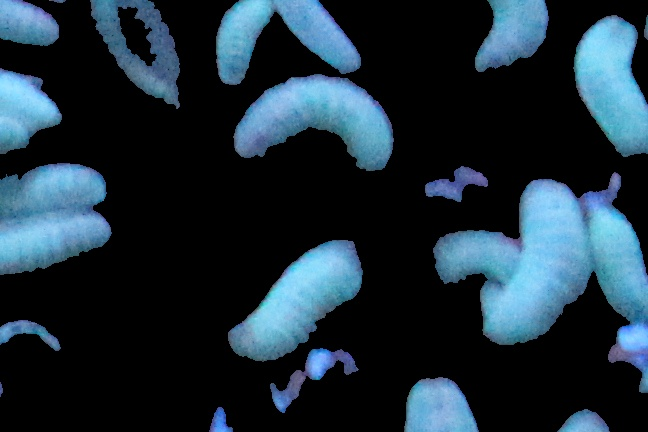larvae: (479, 156, 587, 353), (220, 69, 410, 174), (233, 231, 361, 364), (572, 15, 648, 153), (88, 2, 184, 105), (254, 1, 374, 82), (1, 195, 109, 275), (457, 1, 551, 92), (584, 187, 648, 314), (203, 1, 282, 82), (1, 157, 111, 208), (1, 1, 71, 48)
